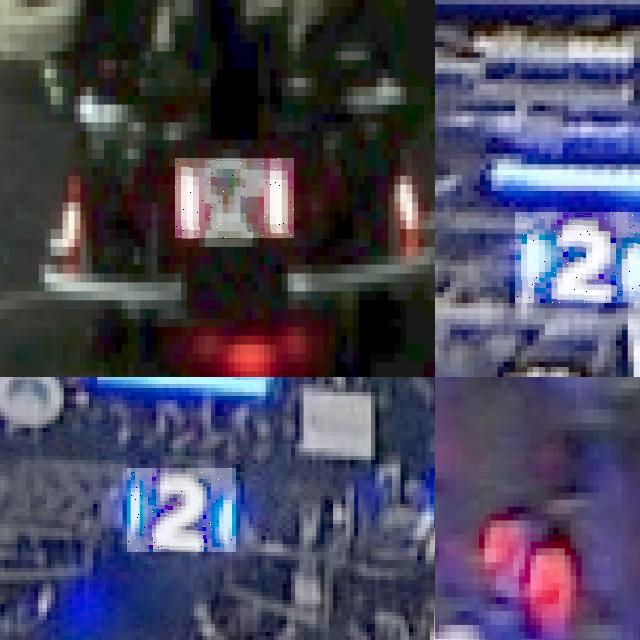B2: (515, 212, 640, 302), (127, 468, 236, 552)
R2: (459, 507, 585, 625)
Rs: (175, 158, 294, 238)
